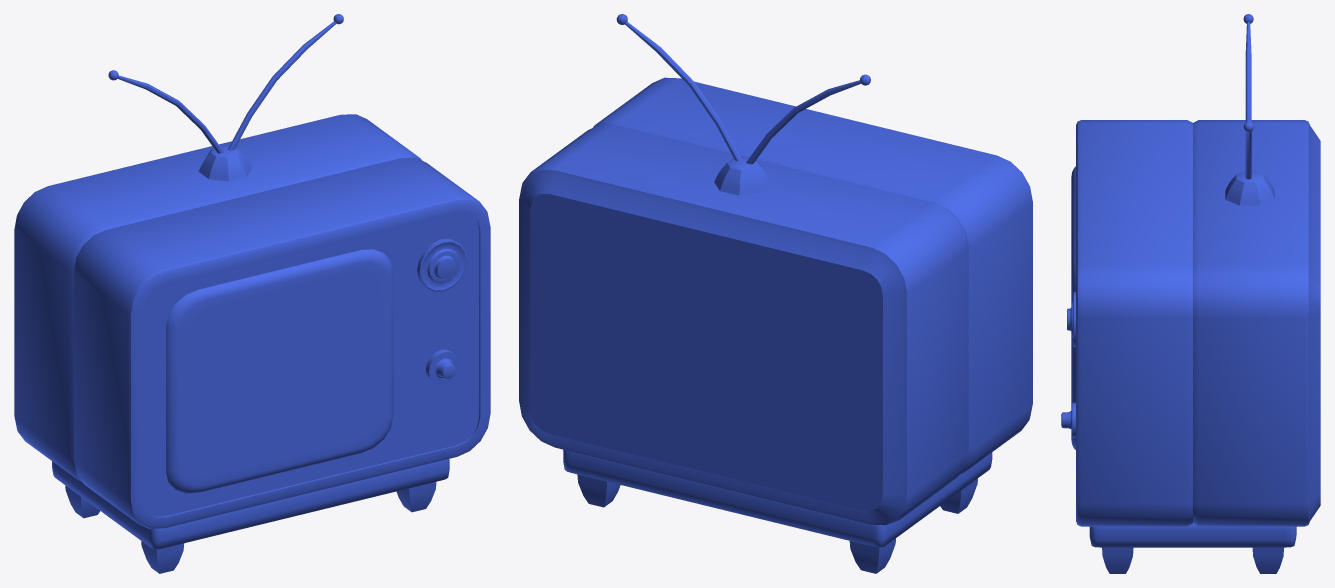
File: RetroTV_Final_FBX.fbx
The picture shows the model from 3 angles, left to right: view 1: azimuth 30°, elevation 25°; view 2: azimuth 150°, elevation 25°; view 3: azimuth 270°, elevation 25°; orthographic projection. The views are drawn at different scales.
Parts seen in each view (by area): view 1: TV Base, TV Screen, TV Bottom, Antenna.001, Legs, Top Button, Lower Button; view 2: TV Base, TV Bottom, Antenna.001, Legs; view 3: TV Base, TV Bottom, Antenna.001, Legs, TV Screen.
Boxes of the visible parts, x1,y1,x2,y2 form: TV Base: (14,114,490,528); TV Screen: (166,249,393,493); TV Bottom: (52,459,449,549); Antenna.001: (108,14,343,181); Legs: (65,481,436,573); Top Button: (417,239,467,291); Lower Button: (425,349,459,384); TV Base: (519,77,1032,525); TV Bottom: (563,449,992,547); Antenna.001: (616,14,870,195); Legs: (577,474,977,573); TV Base: (1076,120,1320,526); TV Bottom: (1089,524,1296,547); Antenna.001: (1225,14,1274,205); Legs: (1102,547,1283,573); TV Screen: (1071,166,1075,449).
Size of the model in its own units: 367 by 432 by 229.
